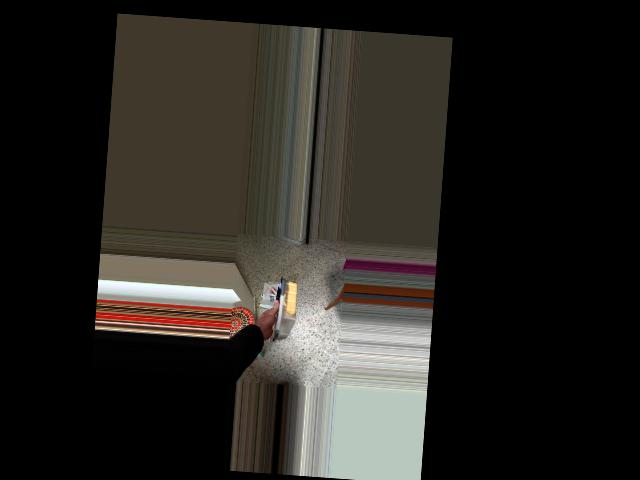cheese: (242, 280, 314, 354)
